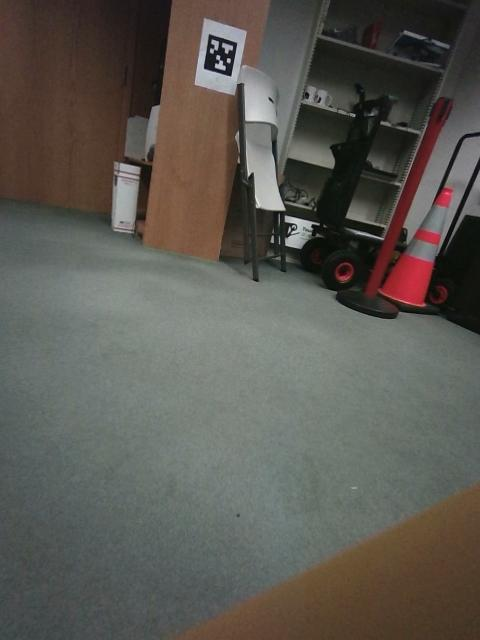block: (361, 400, 425, 488)
